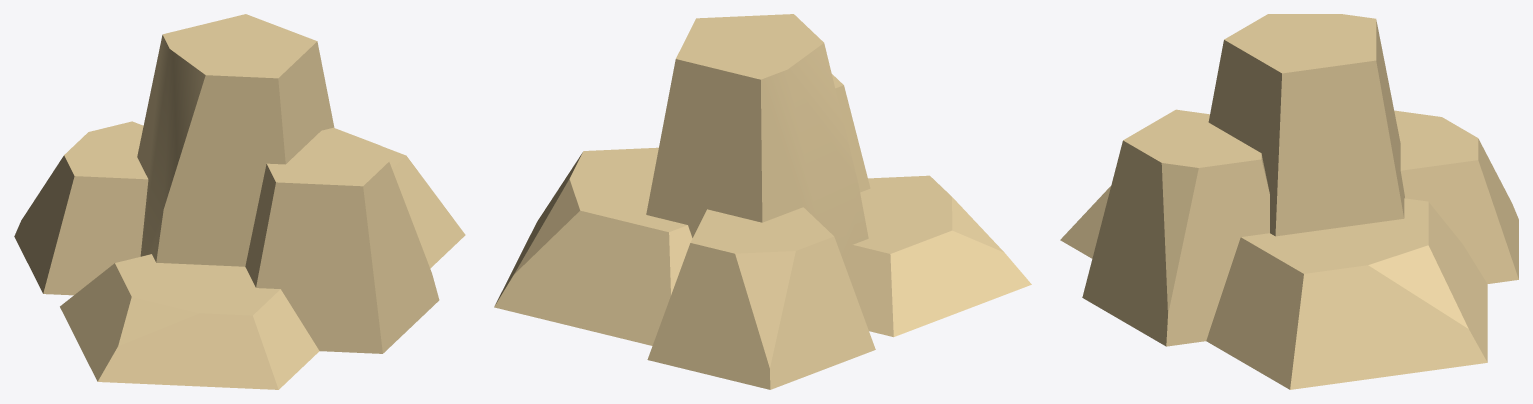
The model's file is stone02.fbx.
The picture shows the model from 3 angles, left to right: view 1: azimuth 30°, elevation 25°; view 2: azimuth 150°, elevation 25°; view 3: azimuth 270°, elevation 25°; orthographic projection. The views are drawn at different scales.
Parts seen in each view (by area): view 1: stone02; view 2: stone02; view 3: stone02.
Part boxes in pixels (x1=…): stone02: x1=14, y1=14, x2=465, y2=389; stone02: x1=494, y1=14, x2=1031, y2=389; stone02: x1=1060, y1=14, x2=1518, y2=389.
Size of the model in its own units: 31.46 by 16.48 by 28.53.
